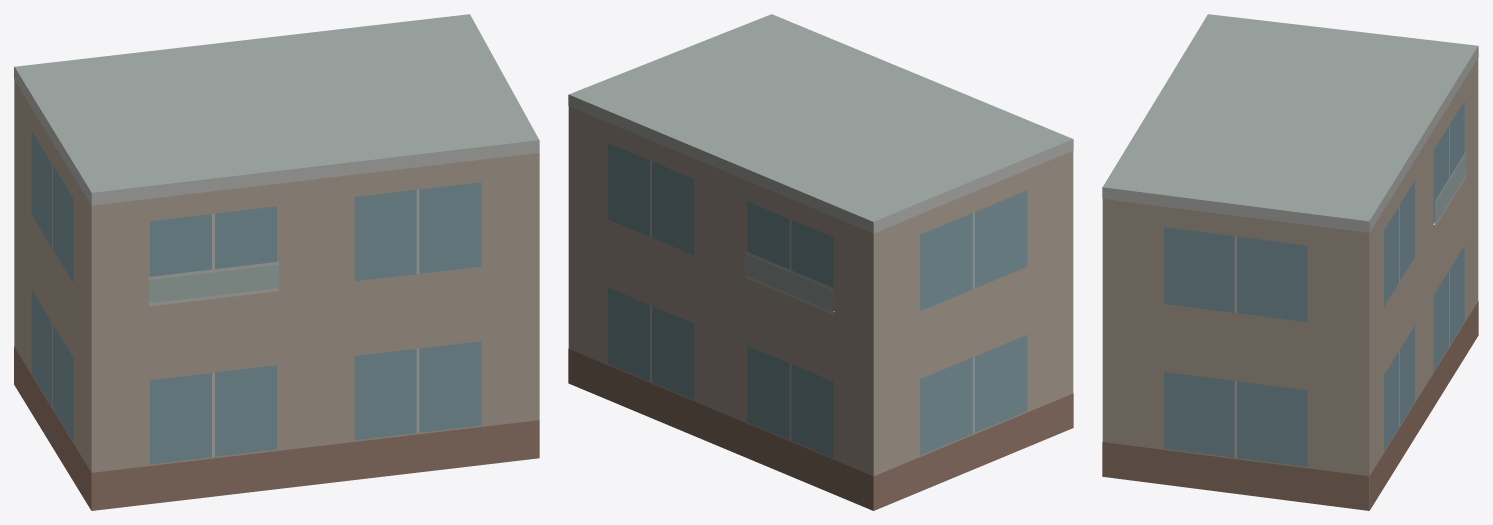
File: survey-upis-32871393.glb
3 views of the same model, side by side, from view 1: azimuth 30°, elevation 25°; view 2: azimuth 150°, elevation 25°; view 3: azimuth 270°, elevation 25° (orthographic). The views are drawn at different scales.
Parts seen in each view (by area): view 1: survey-upis-32871393.tmp; view 2: survey-upis-32871393.tmp; view 3: survey-upis-32871393.tmp.
Part boxes in pixels (x1,y1,x2,y2): survey-upis-32871393.tmp: (14, 14, 539, 510); survey-upis-32871393.tmp: (568, 14, 1073, 510); survey-upis-32871393.tmp: (1102, 14, 1478, 510).
Bounding box in the file's own units: 9.39 × 6.1 × 7.19.
